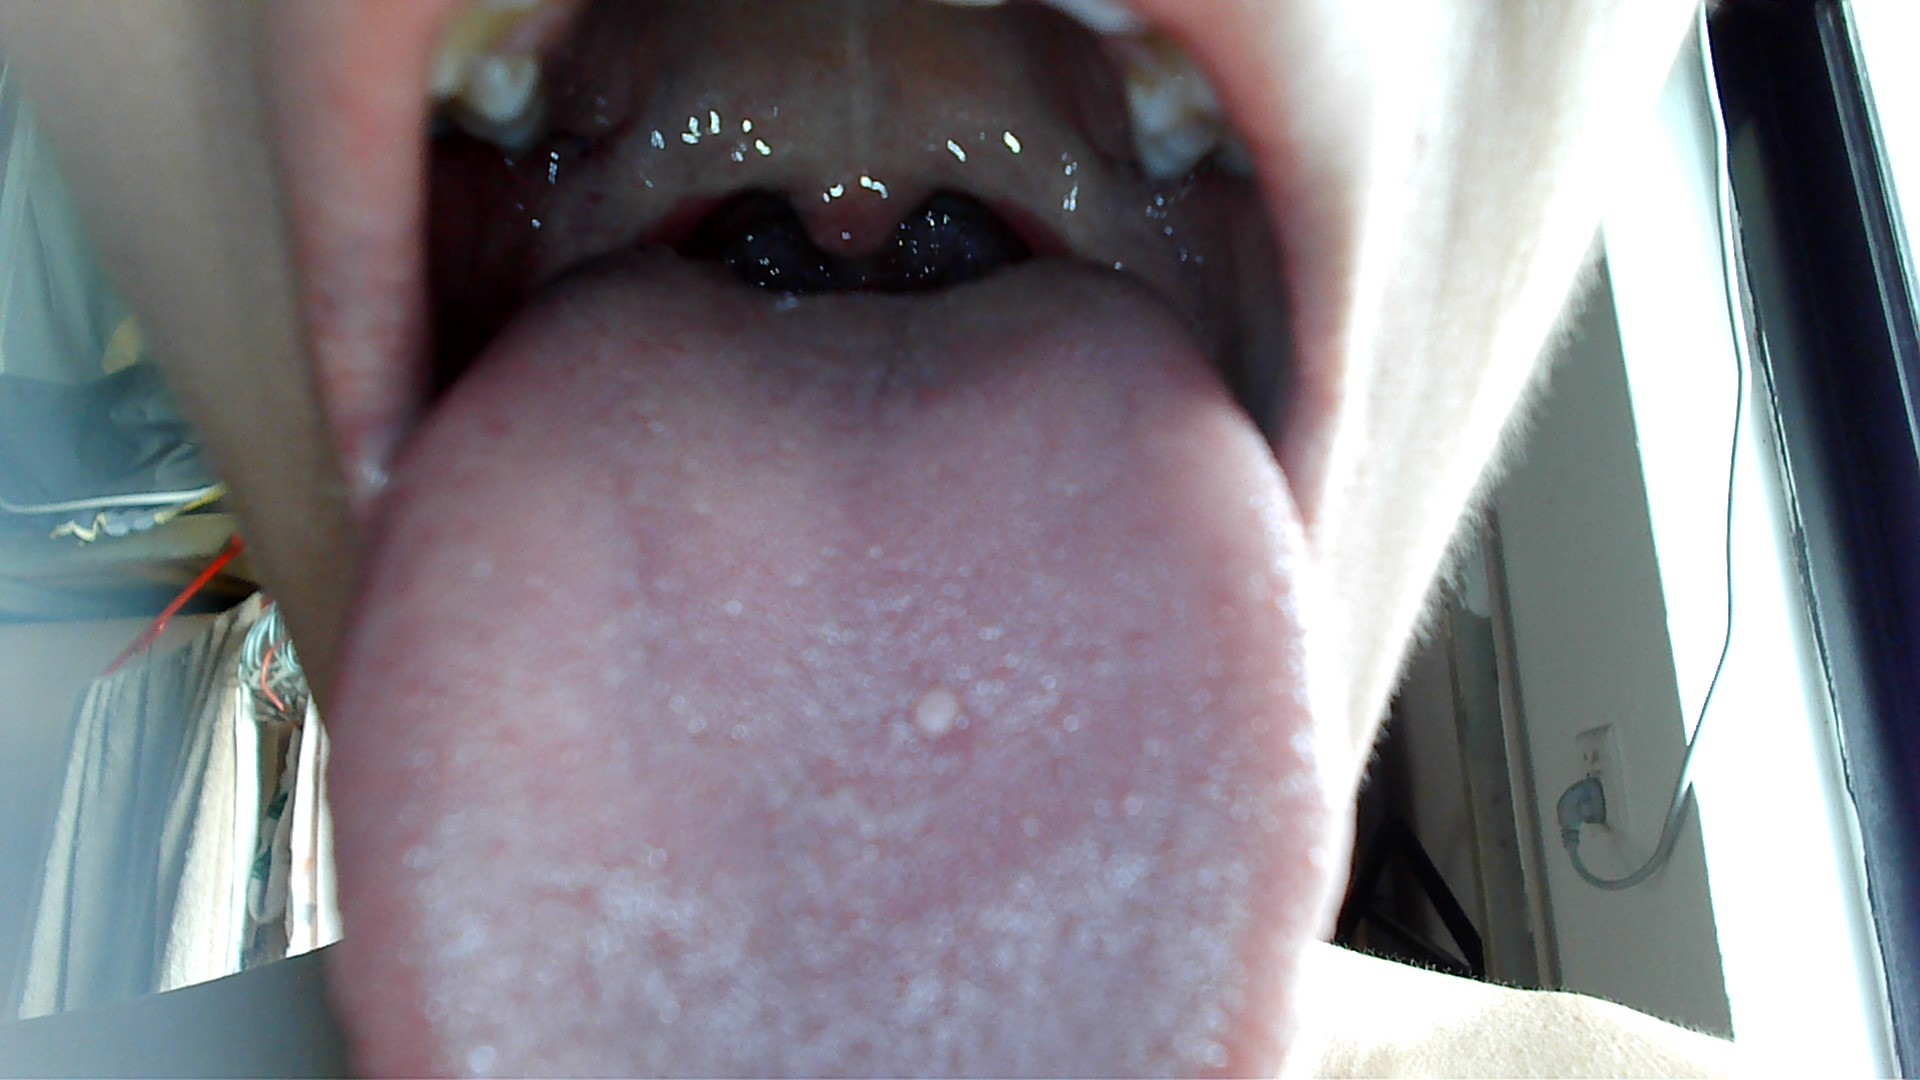throat: (982, 108, 1095, 268), (546, 144, 698, 260)
